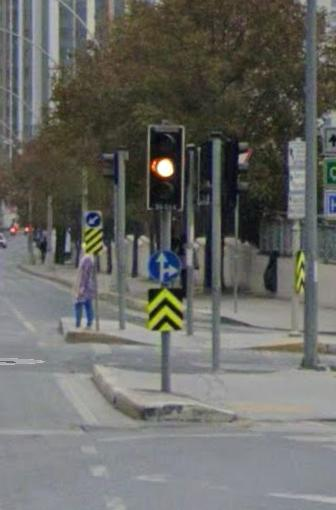yellowlight: (142, 119, 187, 217)
